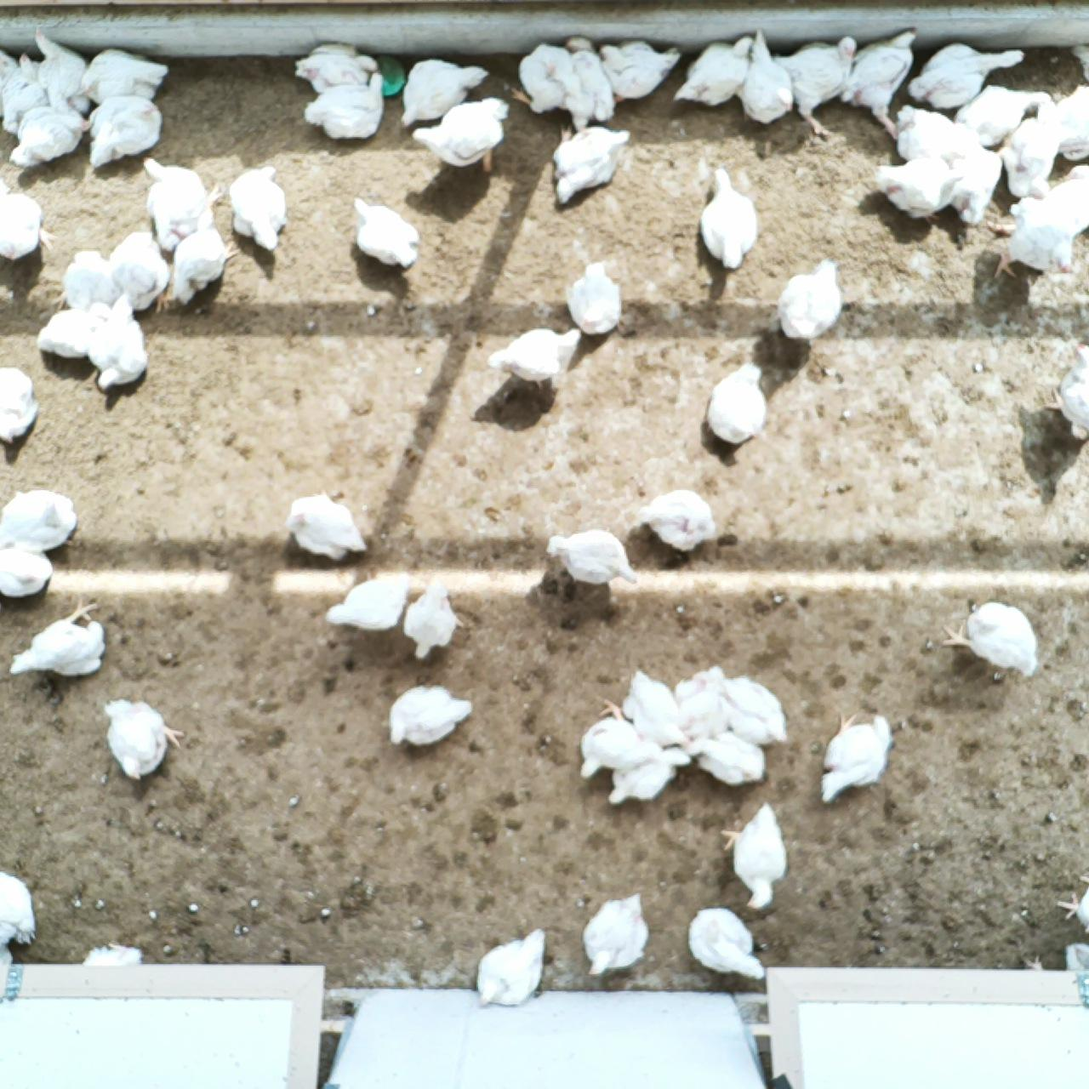chicken: (165, 182, 244, 311), (841, 27, 922, 141), (773, 34, 861, 135), (941, 595, 1042, 683), (906, 40, 1026, 113), (7, 598, 107, 682), (411, 93, 511, 175), (142, 153, 224, 252), (99, 694, 187, 784), (720, 799, 789, 911), (988, 197, 1076, 281), (552, 120, 634, 209), (993, 99, 1065, 200), (818, 709, 892, 807), (472, 924, 554, 1012), (709, 664, 792, 746), (873, 151, 966, 224), (400, 56, 491, 129), (696, 166, 759, 271), (487, 323, 584, 391), (577, 889, 652, 976), (953, 83, 1053, 148), (303, 66, 389, 141), (86, 293, 151, 392), (324, 568, 417, 637), (671, 33, 755, 109), (686, 906, 768, 983), (385, 682, 476, 751), (283, 486, 369, 559), (88, 94, 168, 172), (773, 257, 845, 343), (228, 164, 296, 255), (577, 695, 647, 781), (540, 525, 637, 587), (348, 194, 423, 273), (736, 27, 797, 124), (703, 358, 770, 446), (78, 45, 170, 109), (7, 103, 91, 172), (895, 98, 980, 164), (636, 487, 721, 553), (28, 25, 92, 112), (34, 298, 117, 365), (604, 744, 692, 807), (0, 484, 80, 553), (107, 229, 171, 315), (597, 38, 682, 102), (564, 33, 620, 130), (621, 669, 689, 748), (0, 176, 59, 267), (401, 575, 464, 660), (1041, 337, 1089, 443), (951, 136, 1005, 229), (292, 40, 381, 93), (511, 41, 574, 115), (674, 664, 730, 747), (693, 728, 768, 787), (52, 248, 120, 313), (566, 259, 623, 336), (1, 50, 52, 135), (1042, 165, 1089, 240), (0, 364, 40, 448), (0, 869, 39, 949), (1055, 82, 1089, 161), (1022, 939, 1089, 976), (80, 936, 145, 968), (1057, 869, 1089, 933)
